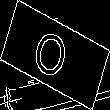O_S: (33, 23, 77, 87)
